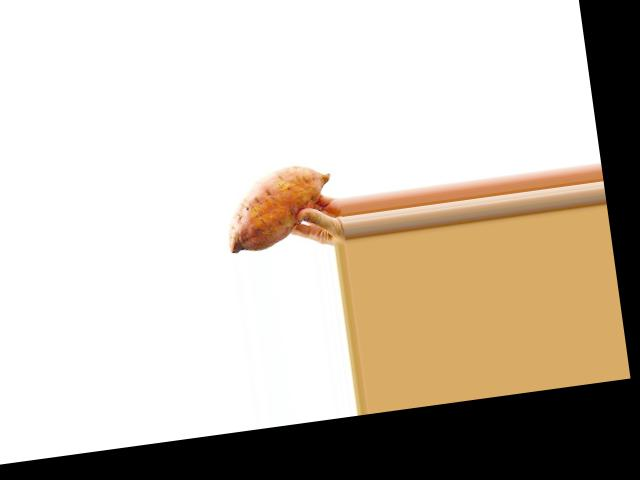sweet_potato: (216, 155, 335, 257)
